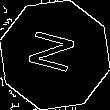N_E: (26, 29, 84, 81)
